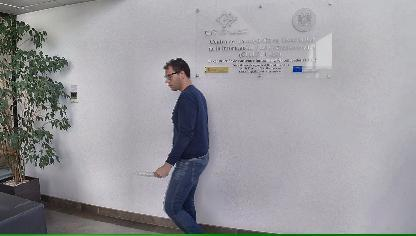knife: (130, 168, 170, 178)
